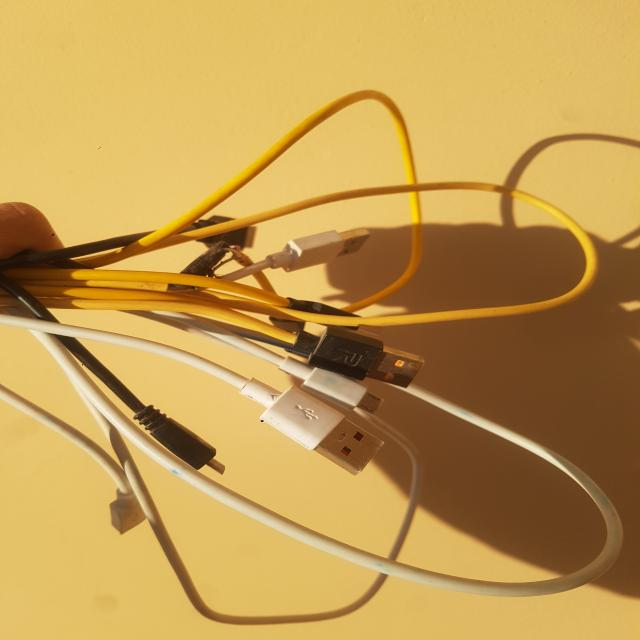electronic: (8, 59, 612, 617)
